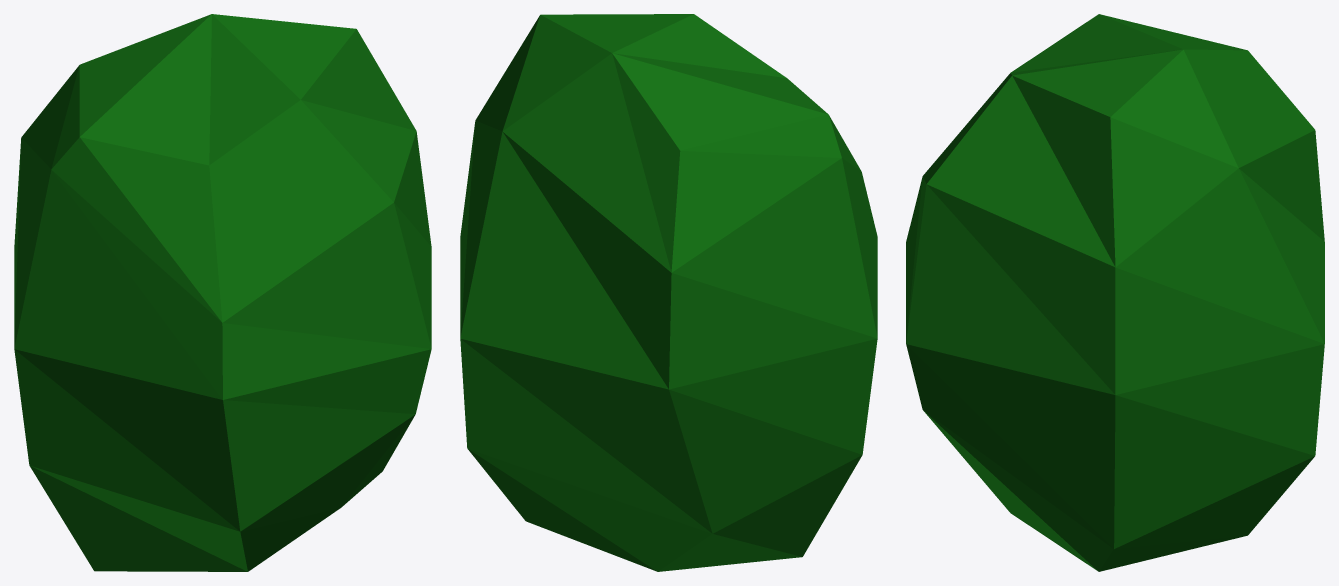
File: Bush_1_Dark.fbx
3 views of the same model, side by side, from view 1: azimuth 30°, elevation 25°; view 2: azimuth 150°, elevation 25°; view 3: azimuth 270°, elevation 25° (orthographic).
Parts seen in each view (by area): view 1: Bush_1_Dark; view 2: Bush_1_Dark; view 3: Bush_1_Dark.
Part boxes in pixels (box(x1,y1,x2,y2)): Bush_1_Dark: box(14, 14, 431, 571); Bush_1_Dark: box(460, 14, 877, 571); Bush_1_Dark: box(906, 14, 1324, 571).
Size of the model in its own units: 2 by 2.32 by 1.73.
